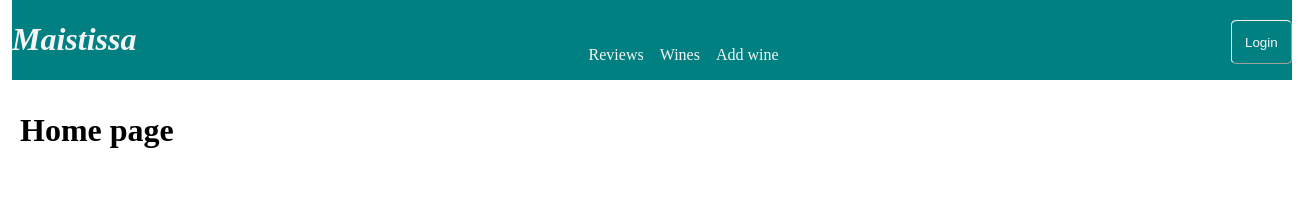
Navigation directs to correct views › navigates to the reviews page
Click the link "Reviews": (616, 54) x1=589 y1=46 x2=644 y2=63
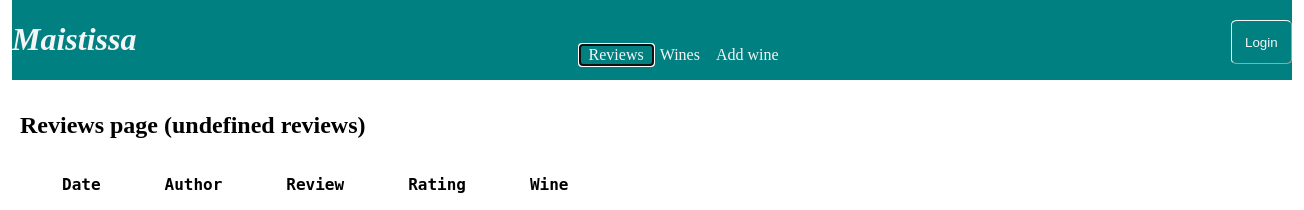
Expected: the heading "Reviews page (undefined reviews)" is shown, x1=20 y1=112 x2=366 y2=138
